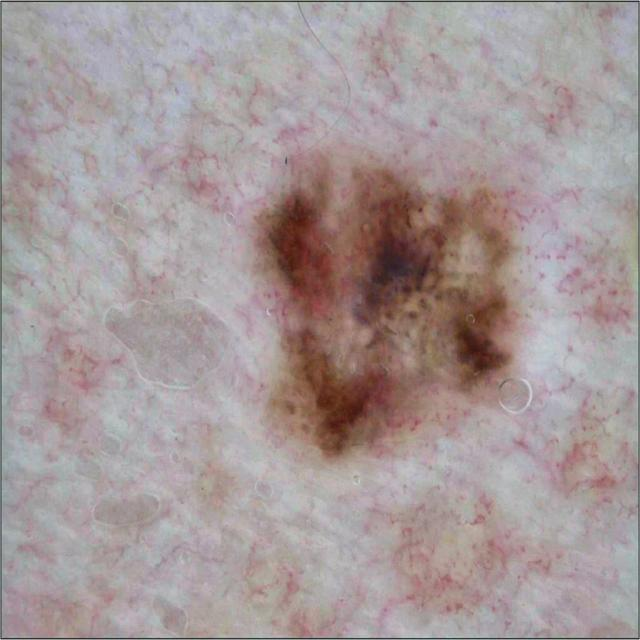Melanocytic-Nevi-NV-: (268, 155, 511, 453)
